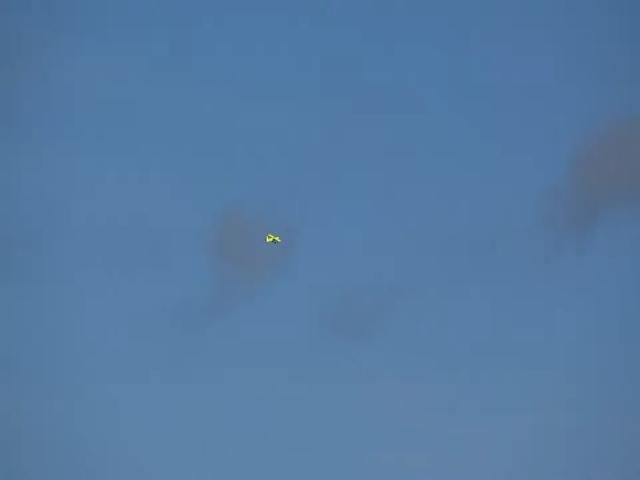plane: (264, 232, 283, 246)
